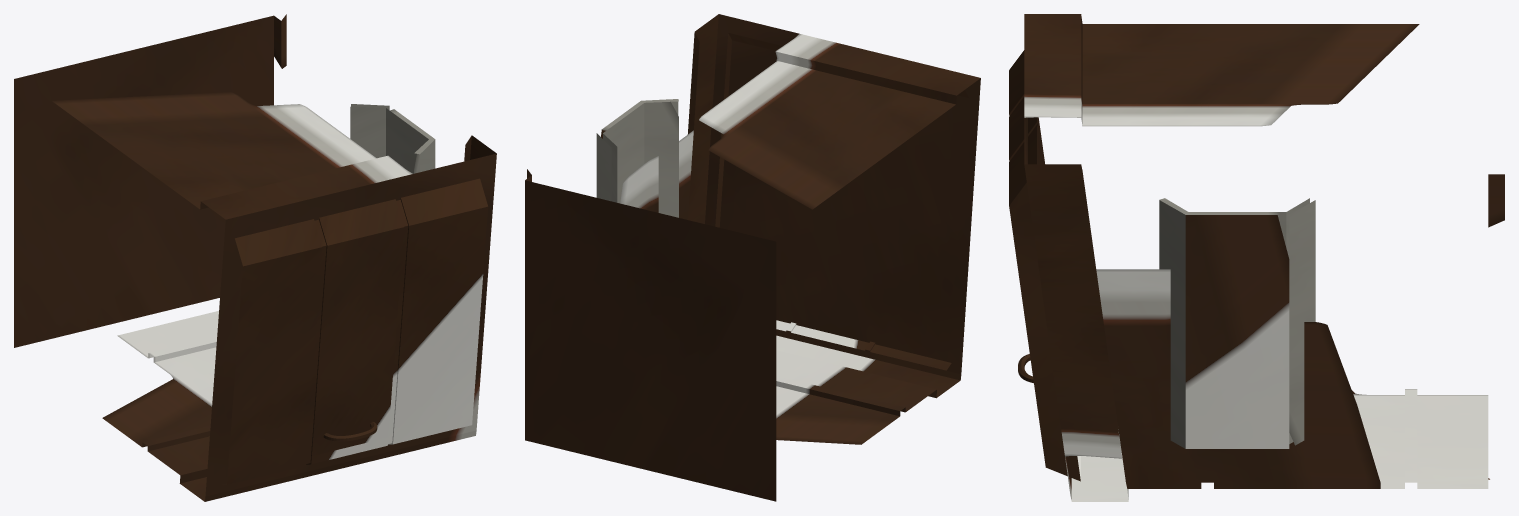
3 renders of one model, left to right at view 1: azimuth 30°, elevation 25°; view 2: azimuth 150°, elevation 25°; view 3: azimuth 270°, elevation 25°, orthographic. The views are drawn at different scales.
Bounding box in the file's own units: 0.9363 × 0.9489 × 1.26.
